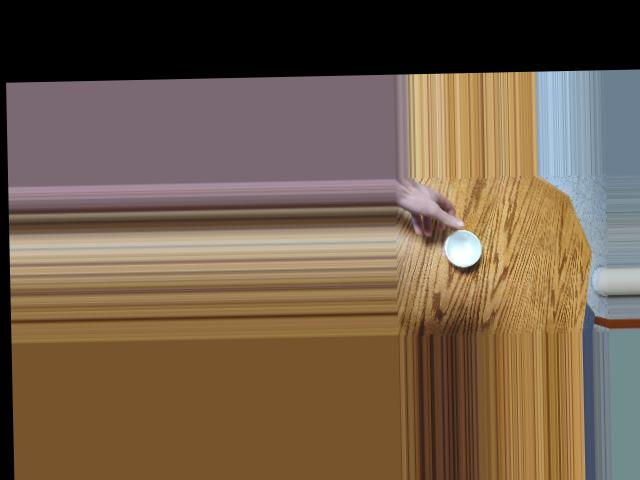cotage: (436, 219, 489, 271)
